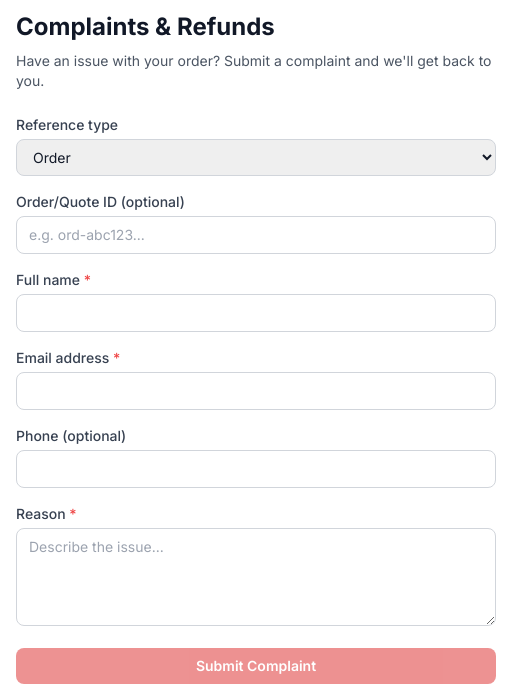
Test: ComplaintForm › hides reference ID when type is unknown
Select "I don't have my reference" in the dropdown labelled "Reference type" at (256, 158), box [16,139,496,176]
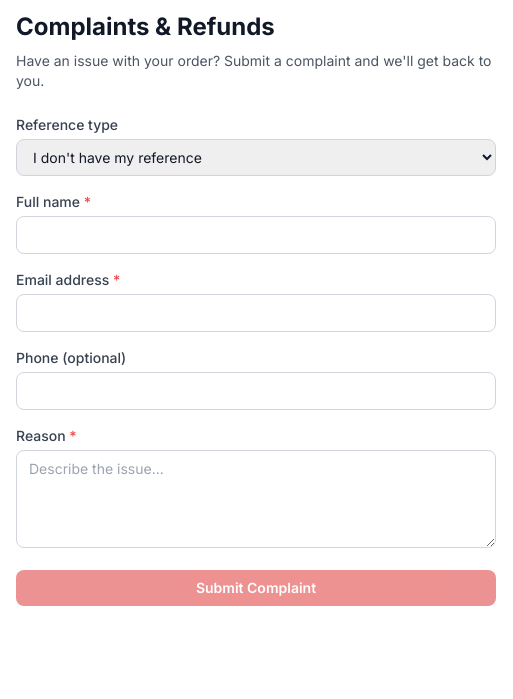
Now the label labelled "Order/Quote ID" is gone
